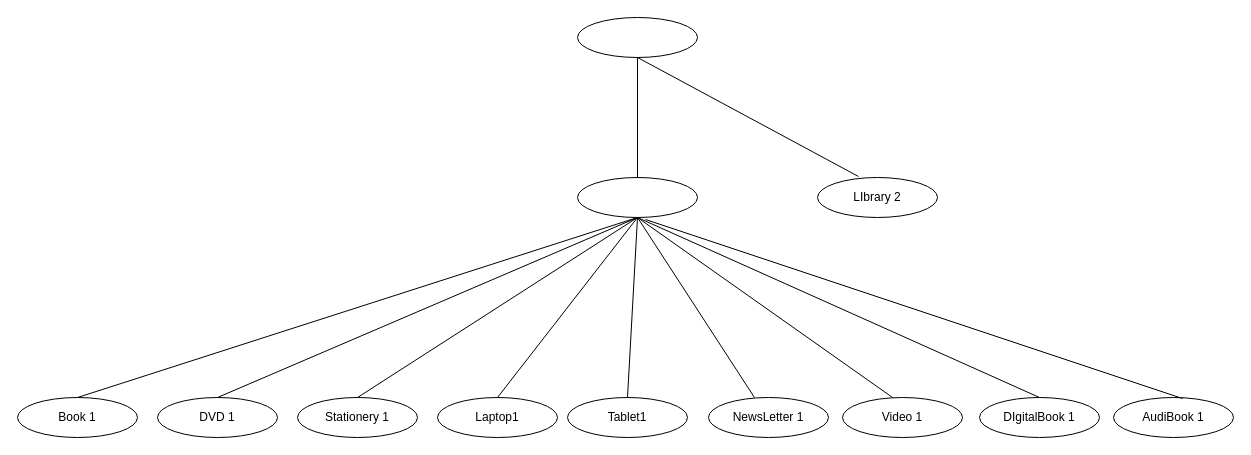
This 1251x455 diagram has some shape labels left out. The shapes that lost their labels are listed below. From the top down, each one's centre as x and y in pixels, then its label:
At (x=637, y=37): "University 1".
At (x=637, y=197): "LIbrary 1".
